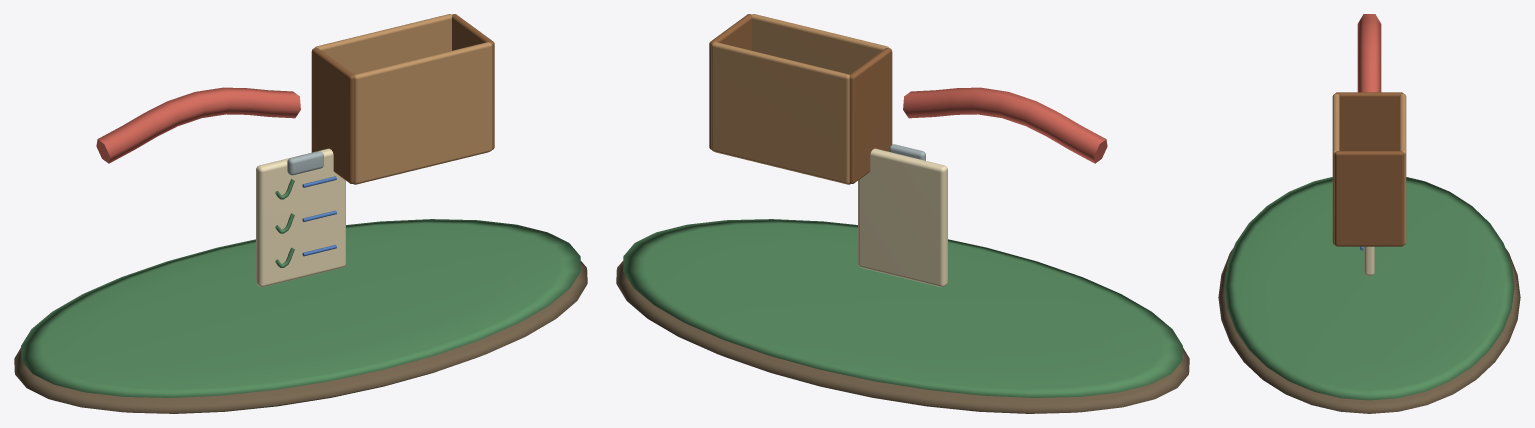
Rendered from complete-second-strip-item-condition.glb.
3 views of the same model, side by side, from view 1: azimuth 30°, elevation 25°; view 2: azimuth 150°, elevation 25°; view 3: azimuth 270°, elevation 25° (orthographic). The views are drawn at different scales.
Parts seen in each view (by area): view 1: complete-second-strip-item-condition_surface_01, complete-second-strip-item-condition_surface_03, complete-second-strip-item-condition_surface_00, complete-second-strip-item-condition_surface_05, complete-second-strip-item-condition_surface_04, complete-second-strip-item-condition_surface_02, complete-second-strip-item-condition_surface_06; view 2: complete-second-strip-item-condition_surface_01, complete-second-strip-item-condition_surface_03, complete-second-strip-item-condition_surface_05, complete-second-strip-item-condition_surface_00, complete-second-strip-item-condition_surface_04, complete-second-strip-item-condition_surface_02; view 3: complete-second-strip-item-condition_surface_01, complete-second-strip-item-condition_surface_04, complete-second-strip-item-condition_surface_00, complete-second-strip-item-condition_surface_02, complete-second-strip-item-condition_surface_03, complete-second-strip-item-condition_surface_05.
Part boxes in pixels (x1,y1,x2,y2): complete-second-strip-item-condition_surface_01: (21,179,580,397); complete-second-strip-item-condition_surface_03: (315,14,492,183); complete-second-strip-item-condition_surface_00: (14,261,587,413); complete-second-strip-item-condition_surface_05: (256,148,345,287); complete-second-strip-item-condition_surface_04: (311,14,494,184); complete-second-strip-item-condition_surface_02: (96,87,300,163); complete-second-strip-item-condition_surface_06: (287,151,323,175); complete-second-strip-item-condition_surface_01: (623,219,1182,397); complete-second-strip-item-condition_surface_03: (711,14,888,183); complete-second-strip-item-condition_surface_05: (858,148,947,287); complete-second-strip-item-condition_surface_00: (616,261,1189,413); complete-second-strip-item-condition_surface_04: (709,14,892,184); complete-second-strip-item-condition_surface_02: (903,87,1107,163); complete-second-strip-item-condition_surface_01: (1224,177,1514,400); complete-second-strip-item-condition_surface_04: (1334,92,1404,246); complete-second-strip-item-condition_surface_00: (1218,248,1520,413); complete-second-strip-item-condition_surface_02: (1357,14,1381,92); complete-second-strip-item-condition_surface_03: (1332,93,1406,244); complete-second-strip-item-condition_surface_05: (1364,246,1374,275).
Size of the model in its own units: 4.56 by 2.13 by 2.5.
